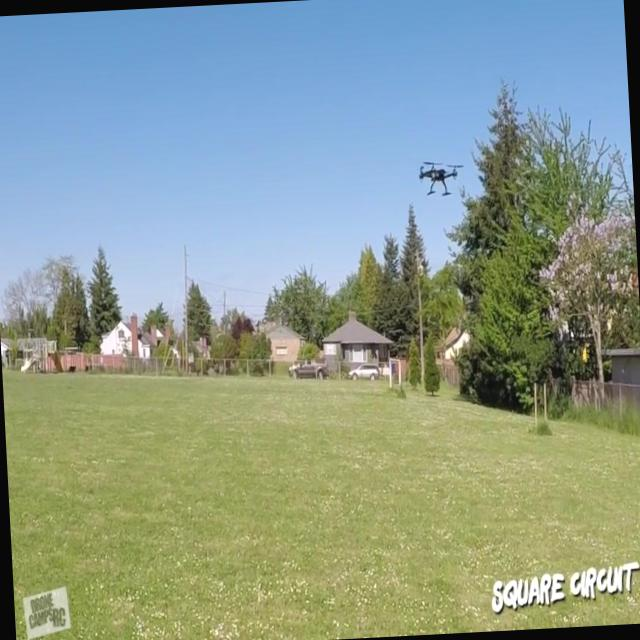drone: (417, 156, 461, 202)
